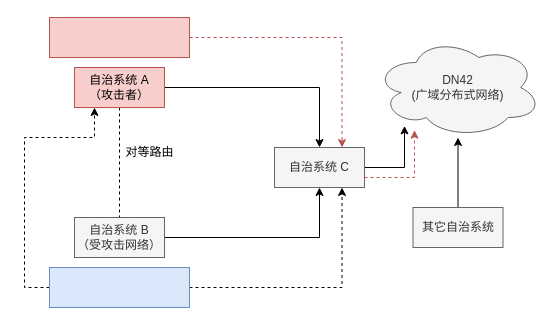
The diagram is 559 pixels wide and 325 high, and some of its shapes have lost their labels. Each missing label, with the centre of its shape:
宣告路由 10.127.132.128/25 B: the point at 119,287
宣告路由 10.127.132.192/26 A: the point at 119,37
